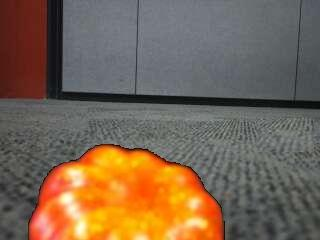Pumpkin: (28, 143, 225, 240)
